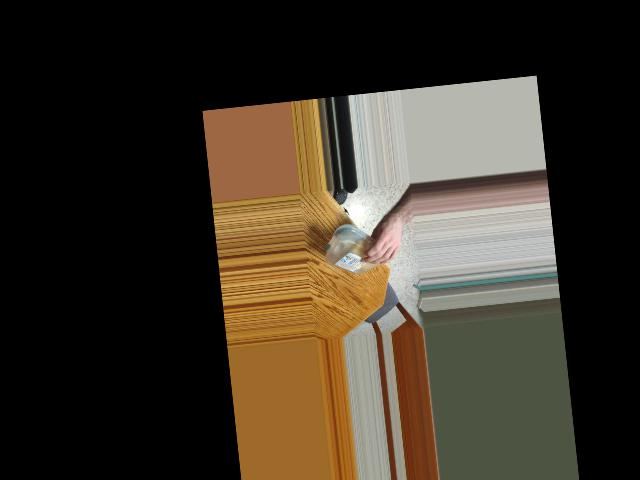cheese: (320, 221, 391, 280)
